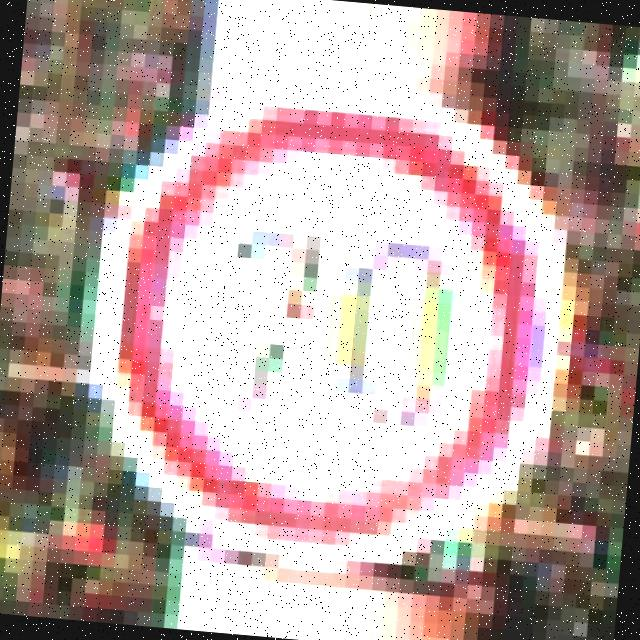Ograniczenie predkosci do 70: (96, 91, 556, 544)
